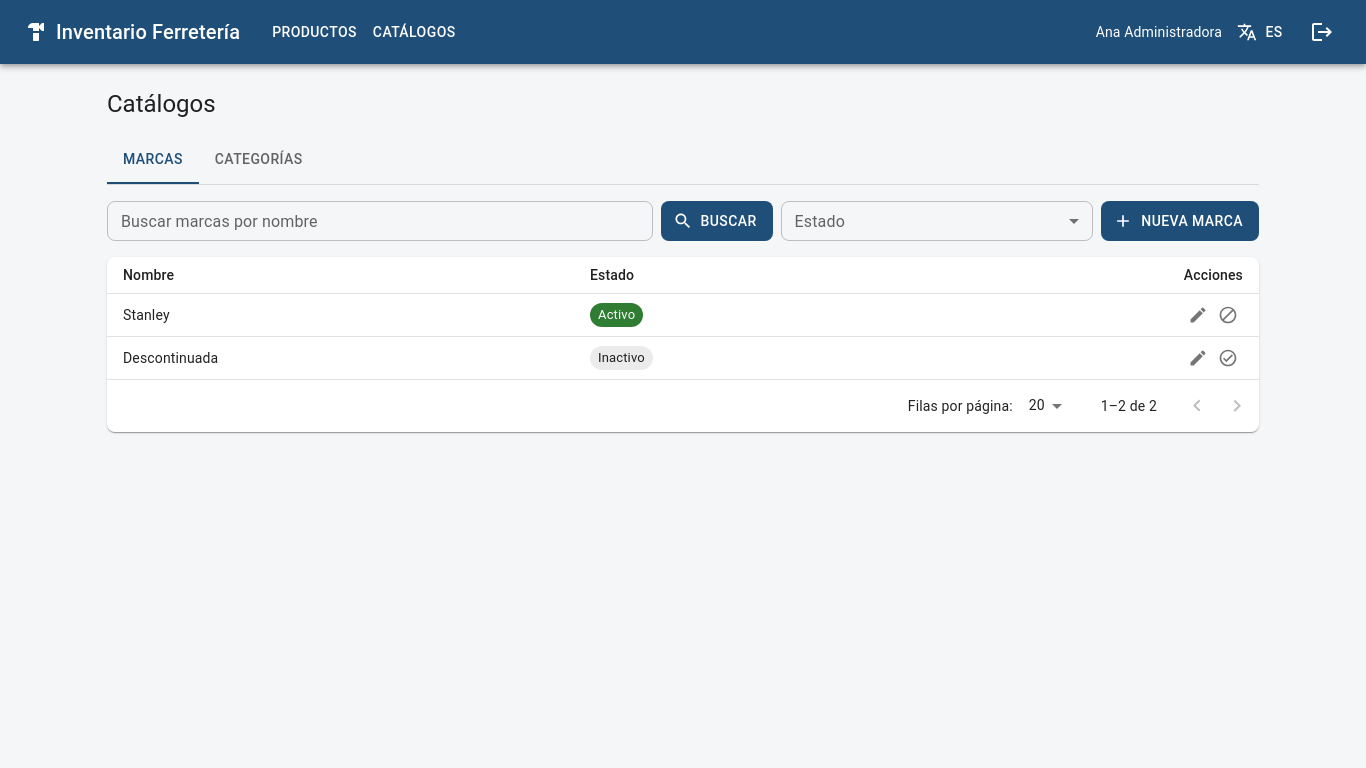
Test: CatalogosPage › crear una marca abre el formulario, la registra y recarga la lista
Click the button with test id "catalogo-marcas-nuevo".
click(1180, 221)  # box [1101,201,1259,241]
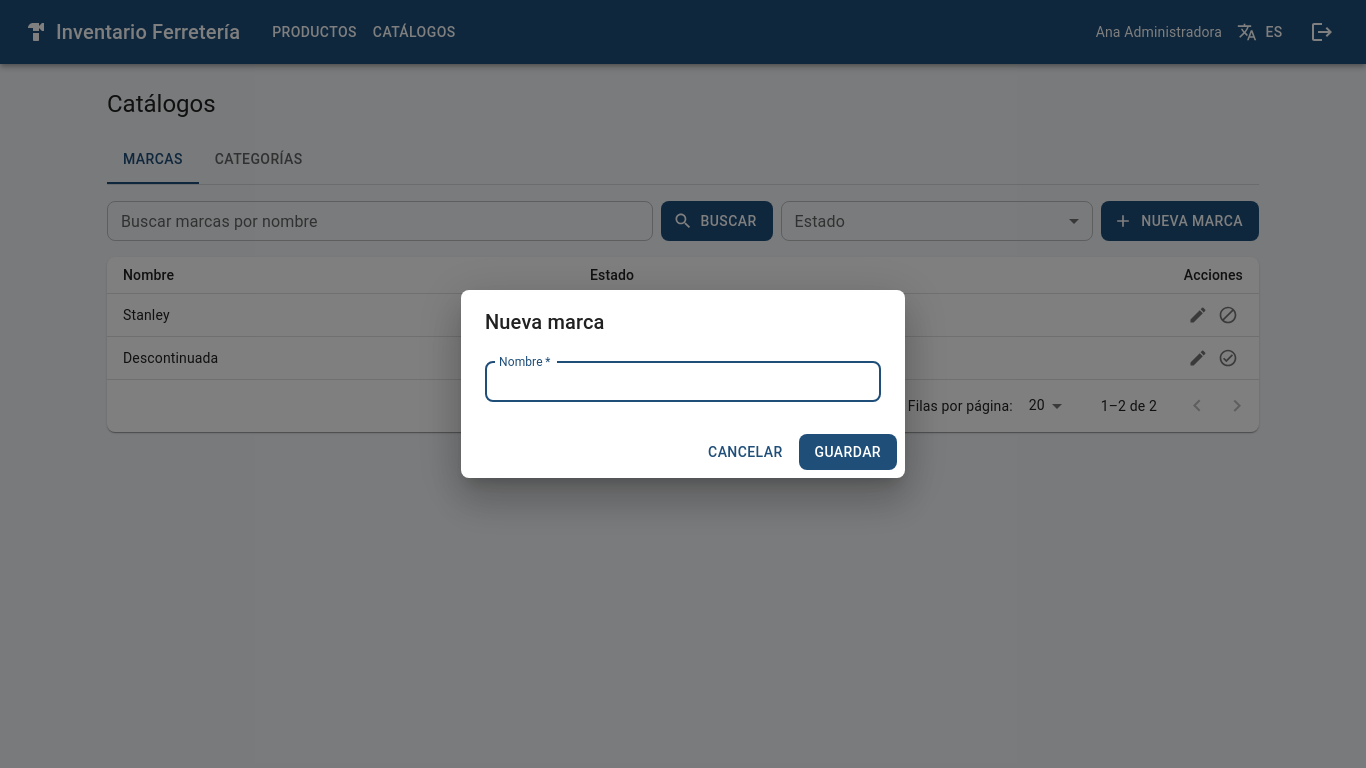
Type "Bosch" into the field with test id "catalogo-campo-nombre".
click(683, 382); type("Bosch")  # box [485,362,881,402]
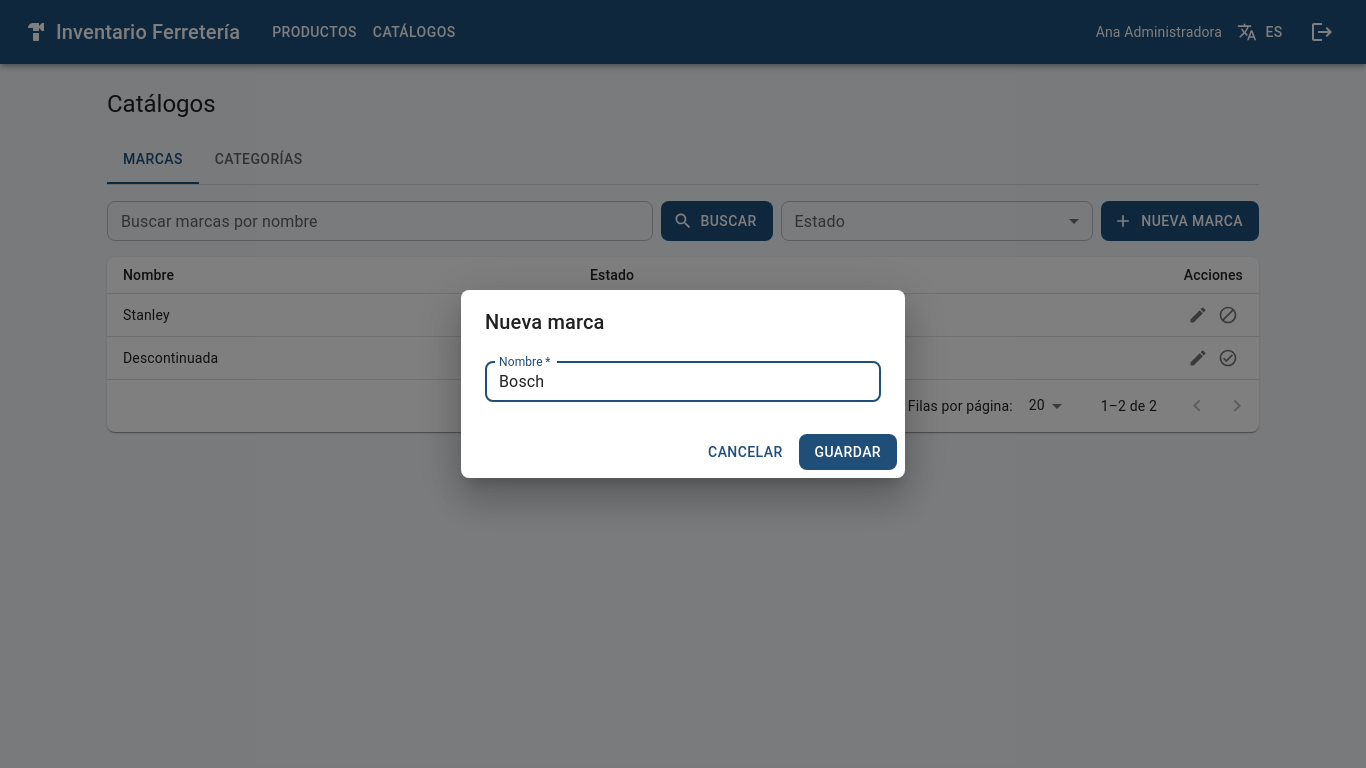
Click the button with test id "catalogo-guardar".
click(848, 452)  # box [798,434,897,470]
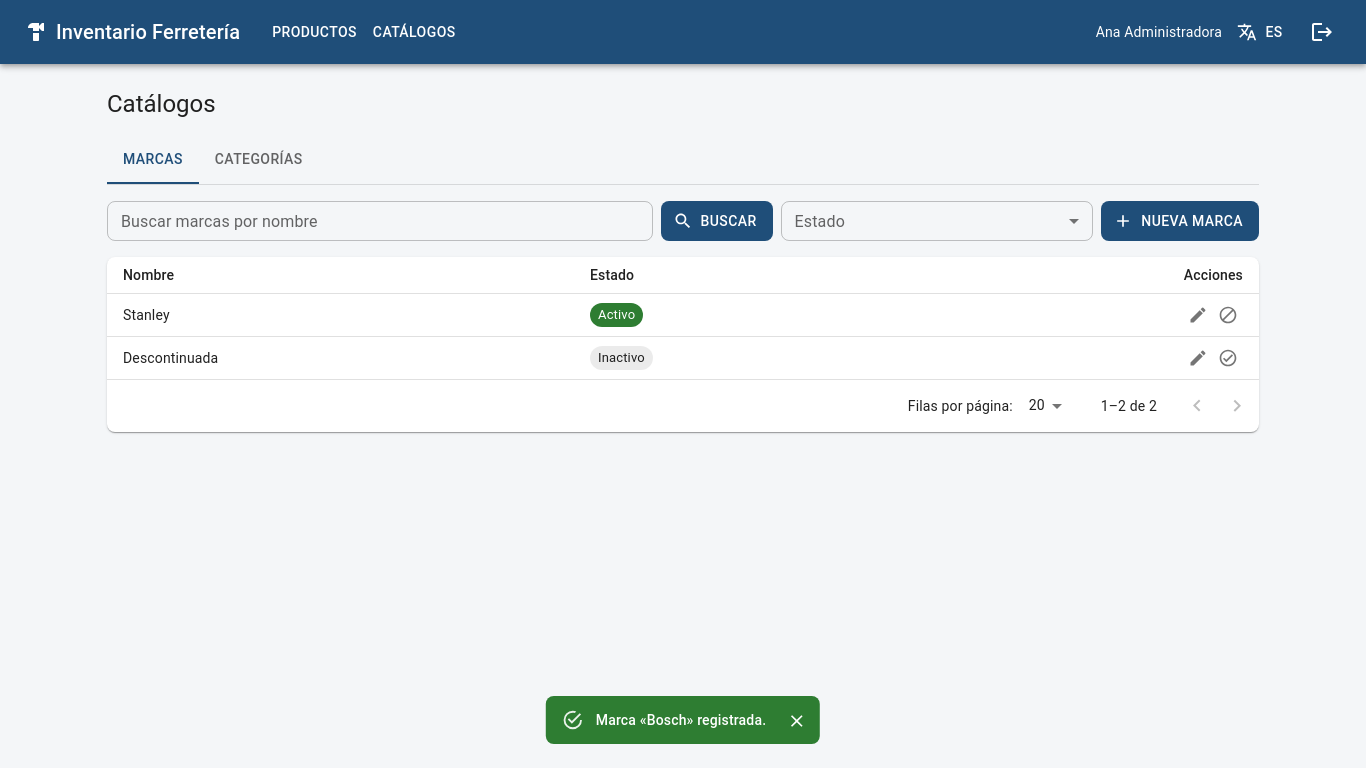
Expected: the form with test id "catalogo-form" is gone
